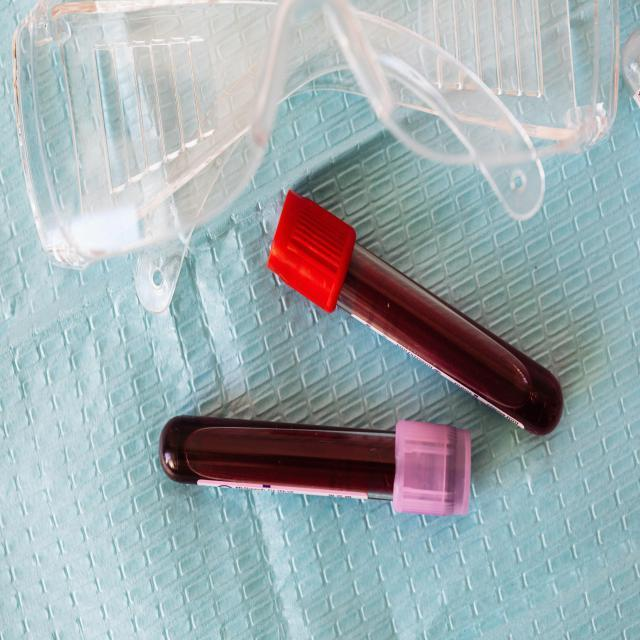flood: (349, 251, 563, 434), (162, 417, 394, 493)
